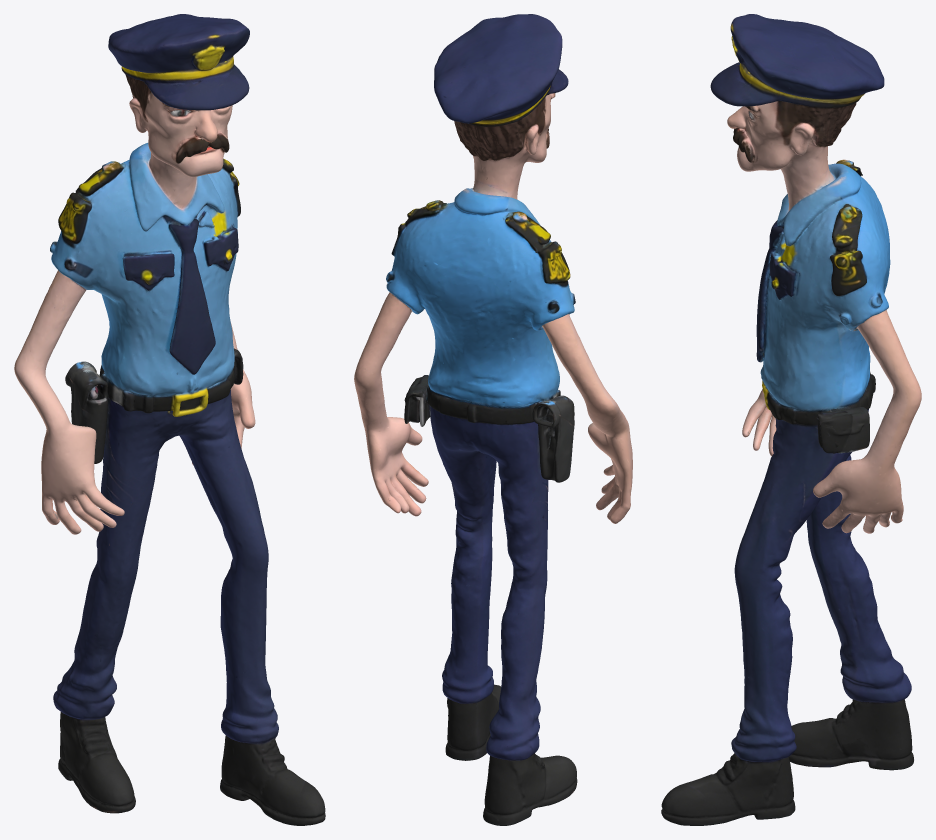
File: karota.glb
3 renders of one model, left to right at view 1: azimuth 30°, elevation 25°; view 2: azimuth 150°, elevation 25°; view 3: azimuth 270°, elevation 25°, orthographic. The views are drawn at different scales.
Parts seen in each view (by area): view 1: Object_12, Object_8, Object_10, Object_14, Object_16; view 2: Object_14, Object_10, Object_8, Object_12, Object_16; view 3: Object_12, Object_14, Object_10, Object_8, Object_16.
Part boxes in pixels (x1,y1,x2,y2): Object_12: [39, 14, 325, 824]; Object_8: [41, 17, 325, 825]; Object_10: [14, 18, 293, 810]; Object_14: [23, 14, 252, 796]; Object_16: [16, 14, 255, 806]; Object_14: [354, 68, 611, 825]; Object_10: [358, 45, 623, 803]; Object_8: [358, 14, 632, 825]; Object_12: [398, 14, 632, 789]; Object_16: [406, 56, 622, 796]; Object_12: [661, 16, 862, 825]; Object_14: [806, 38, 921, 769]; Object_10: [710, 18, 911, 817]; Object_8: [661, 14, 918, 824]; Object_16: [804, 29, 844, 764].
Bounding box in the file's own units: 0.6177 × 1.9 × 0.5905.
Materials: 1 (1 with a texture image).
